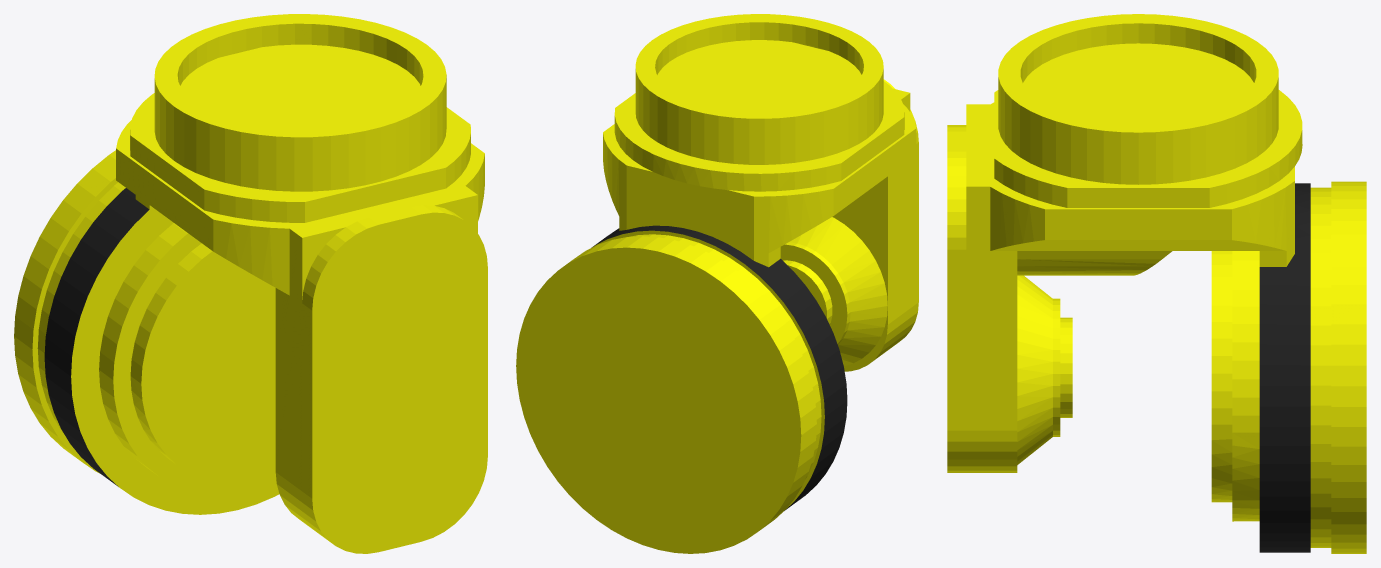
3 renders of one model, left to right at view 1: azimuth 30°, elevation 25°; view 2: azimuth 150°, elevation 25°; view 3: azimuth 270°, elevation 25°, orthographic. The views are drawn at different scales.
Parts seen in each view (by area): view 1: node; view 2: node; view 3: node.
Part boxes in pixels (x1,y1,x2,y2): node: (14, 14, 487, 553); node: (516, 14, 918, 553); node: (947, 14, 1366, 553).
Size of the model in its own units: 252 by 346 by 284.
